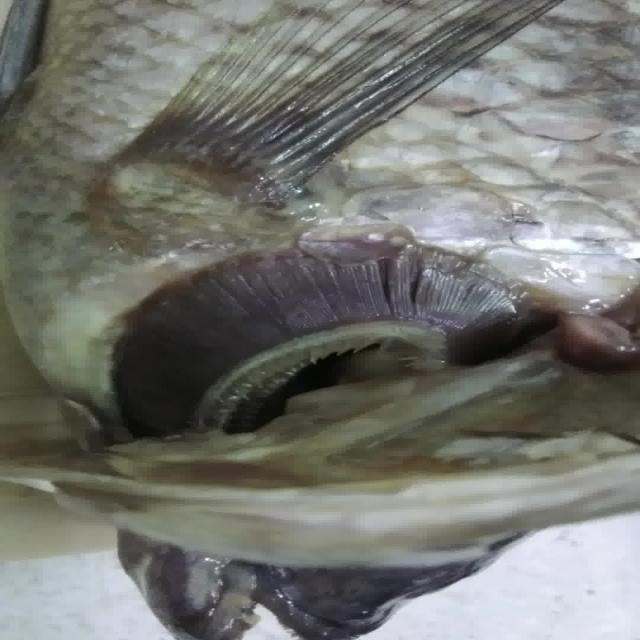Non-Fresh: (81, 228, 571, 430)
